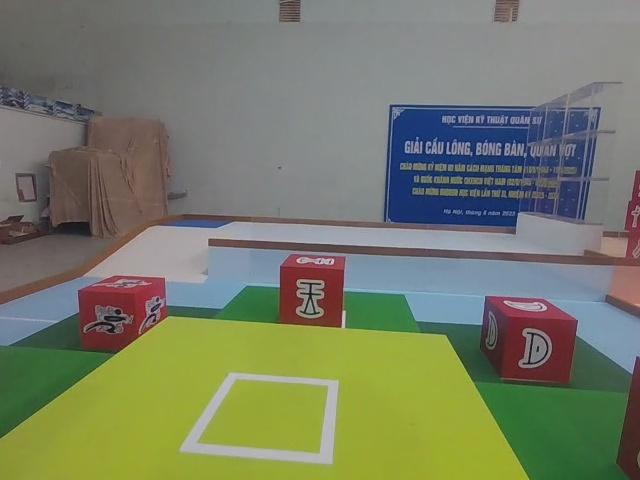R1: (74, 272, 169, 356)
R2 Real: (478, 294, 581, 388), (276, 252, 349, 331)
